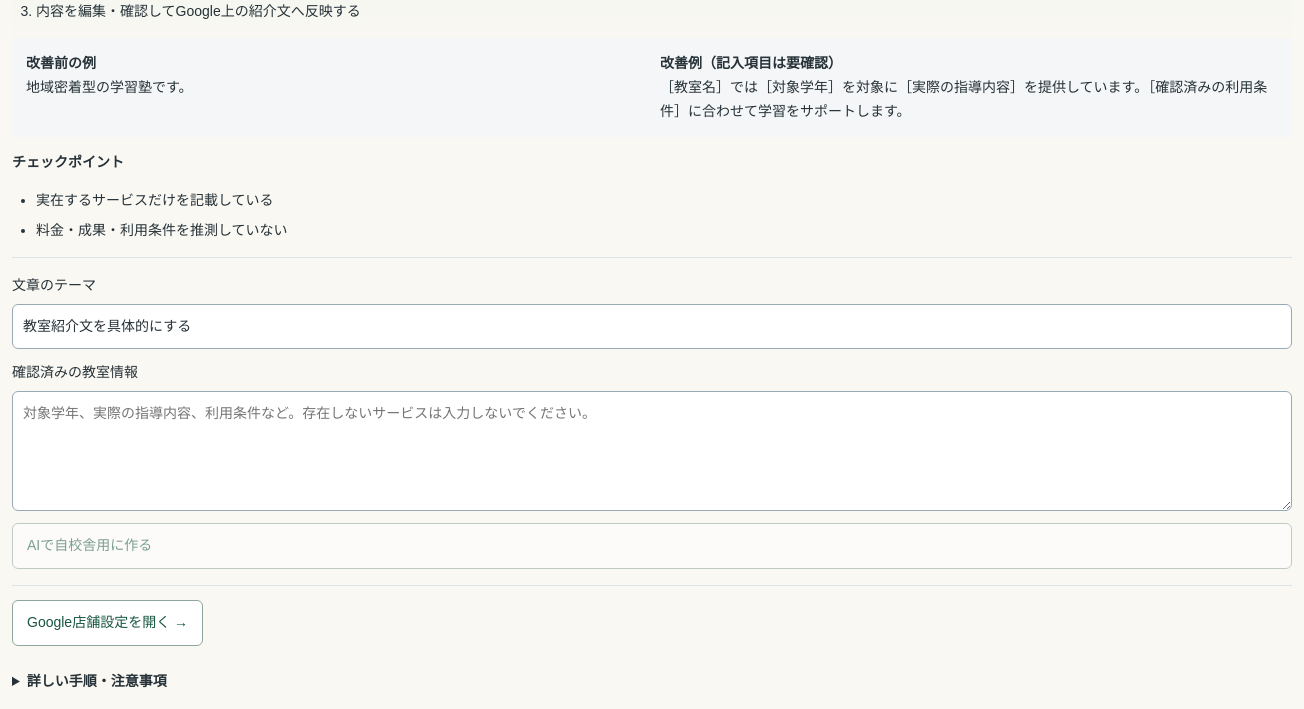
Scenario: progressive execution guides › handles unsuccessful AI response 403
(page scrolled)
Type "高校生対象の予約制面談" into the text box labelled "確認済みの教室情報".
click(652, 451); type("高校生対象の予約制面談")  # box [12,391,1292,511]
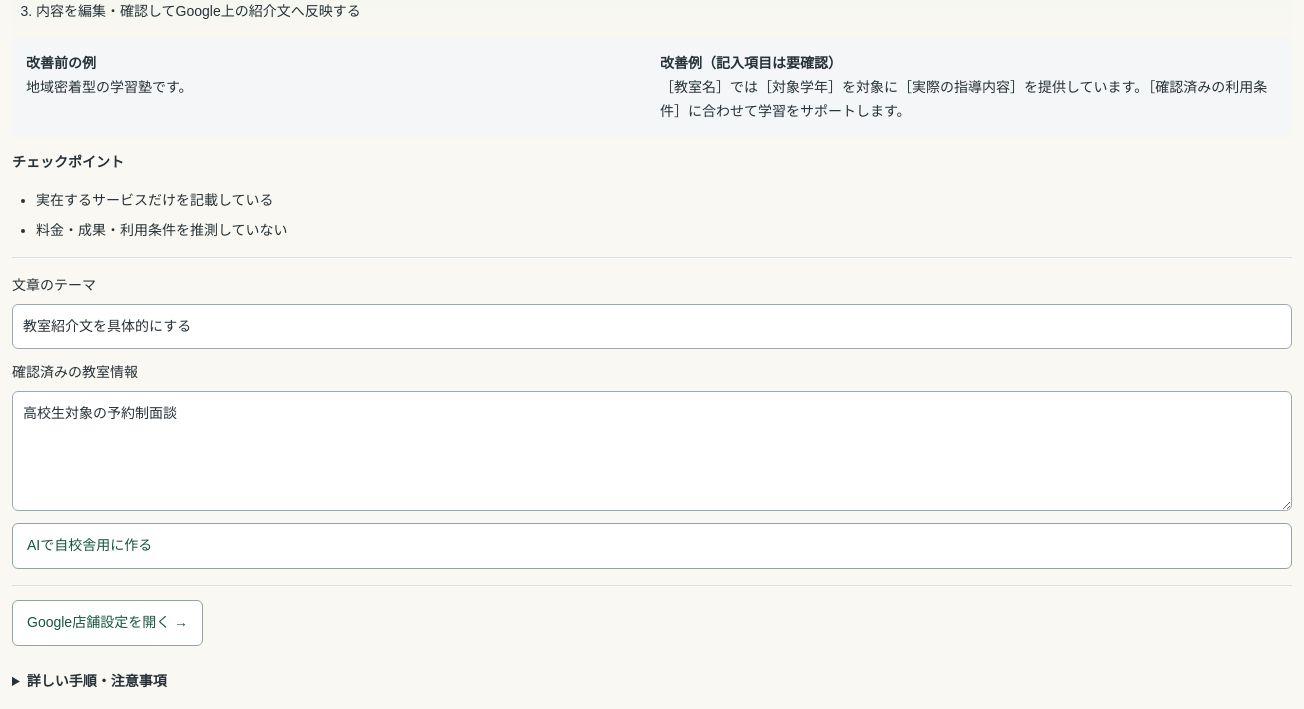
Click the button "AIで自校舎用に作る".
click(90, 545)  # box [12,523,1292,569]
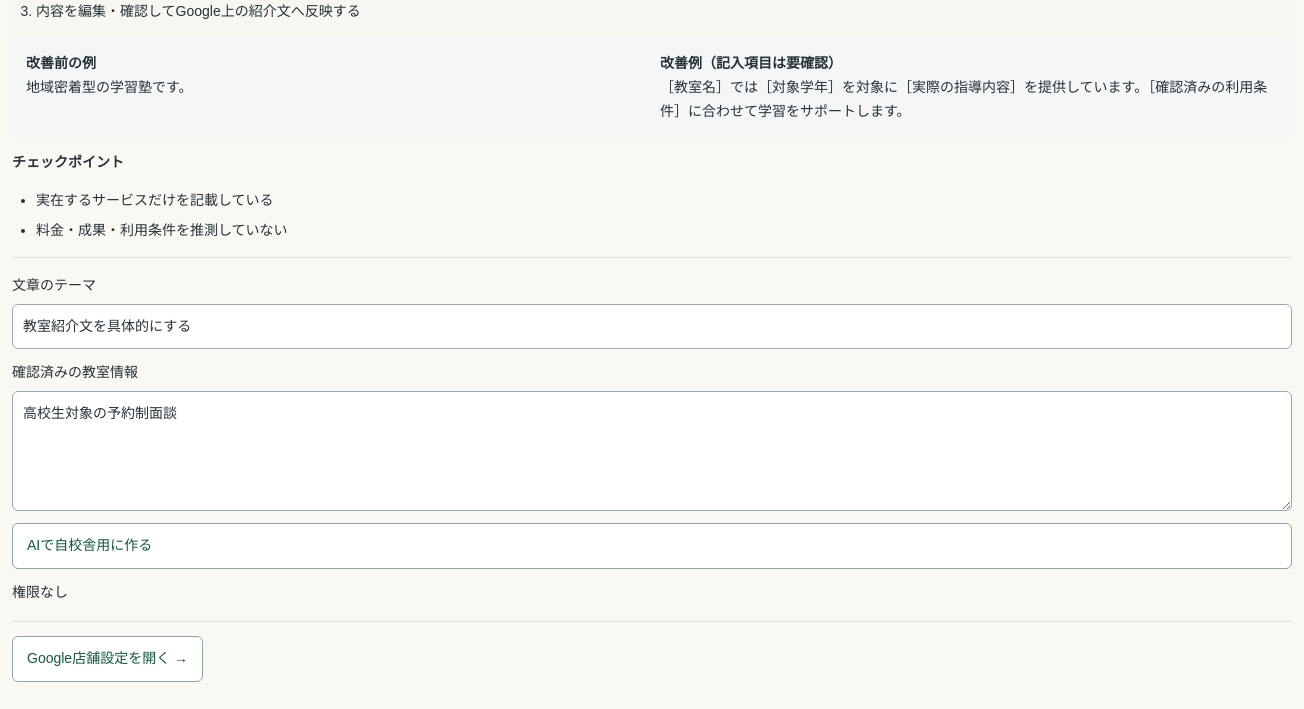
Expected: the text "権限なし" is shown, [12,584,68,600]
